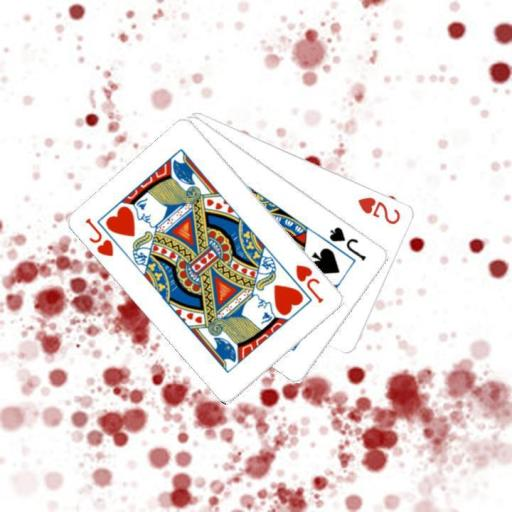card-corner: (326, 224, 368, 262), (355, 194, 402, 226), (292, 262, 326, 305), (82, 215, 116, 258)
